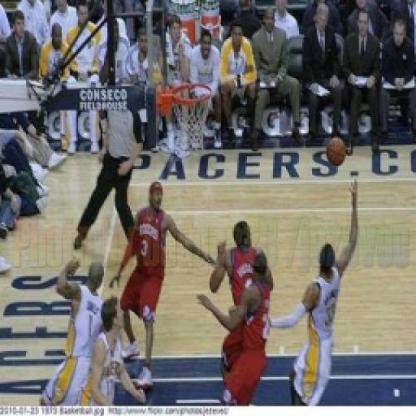basketball: (326, 138, 350, 166)
